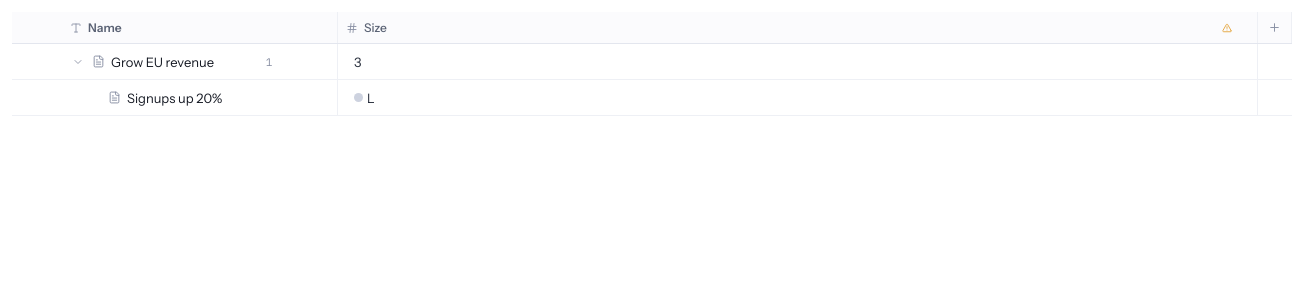
Test case: TableView union columns across the chain (M20.2) › each row renders its own type’s declaration of a shared name
// Objective's `size` is a number: its editor is a textbox.
Click the cell "3".
click(798, 62)  # box x1=338 y1=44 x2=1258 y2=79
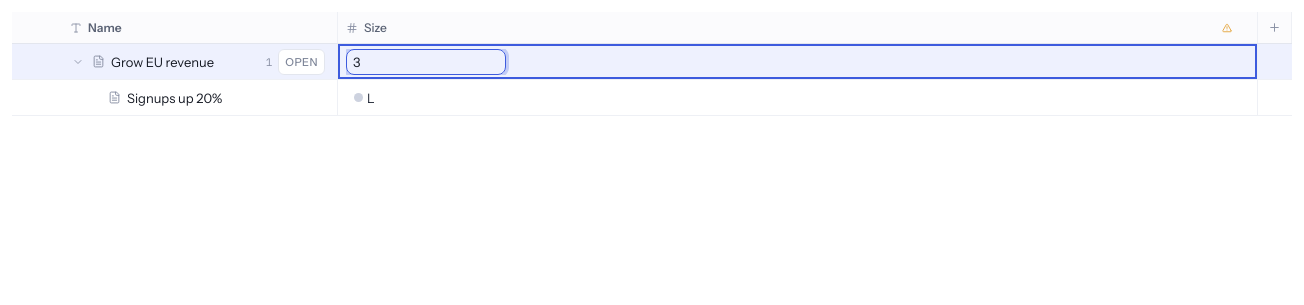
expect the field named "Size" is shown: met, box x1=346 y1=48 x2=506 y2=74
Click the cell "L".
click(798, 98)  # box x1=338 y1=80 x2=1258 y2=115
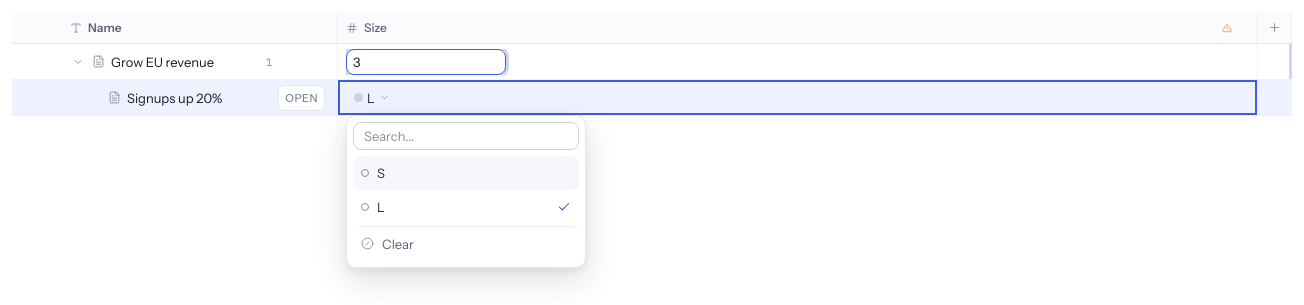
expect the options read "S", "L", in this order: met, box x1=353 y1=156 x2=579 y2=190; x1=353 y1=190 x2=579 y2=224
